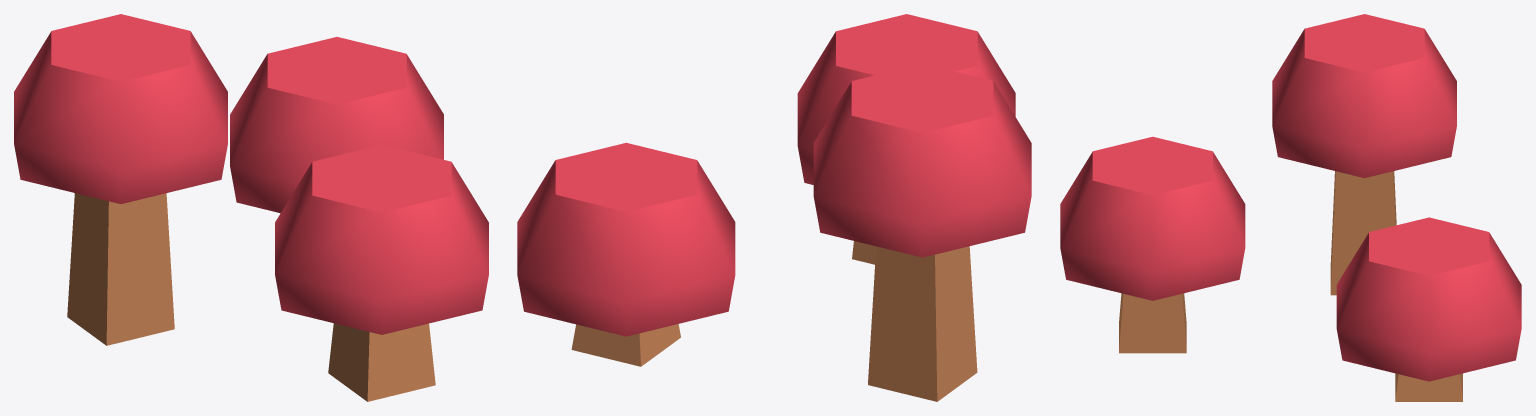
File: mushrooms.dae
3 views of the same model, side by side, from view 1: azimuth 30°, elevation 25°; view 2: azimuth 150°, elevation 25°; view 3: azimuth 270°, elevation 25° (orthographic). The views are drawn at different scales.
Parts seen in each view (by area): view 1: mushrooms; view 2: mushrooms; view 3: mushrooms.
Part boxes in pixels (x1,y1,x2,y2): mushrooms: [14, 14, 488, 401]; mushrooms: [517, 14, 1031, 401]; mushrooms: [1060, 14, 1521, 401].
Size of the model in its own units: 0.5242 by 0.295 by 0.5188.
